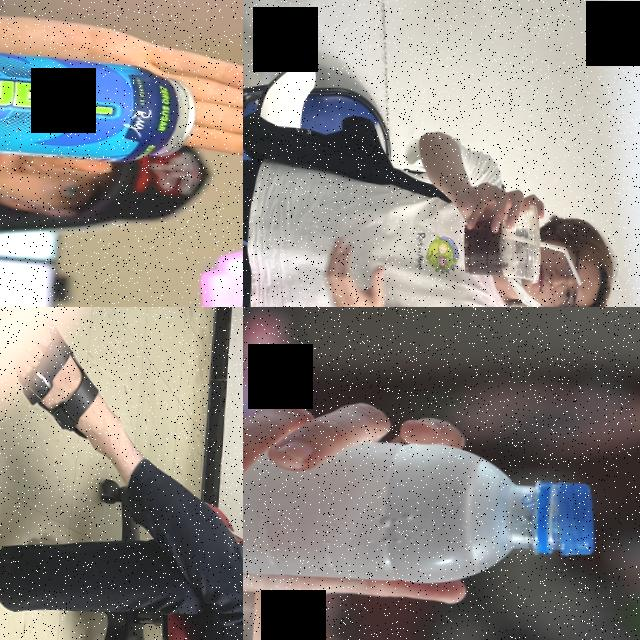bottle: (243, 423, 605, 595)
can: (0, 30, 199, 167)
cup: (459, 200, 545, 284)
